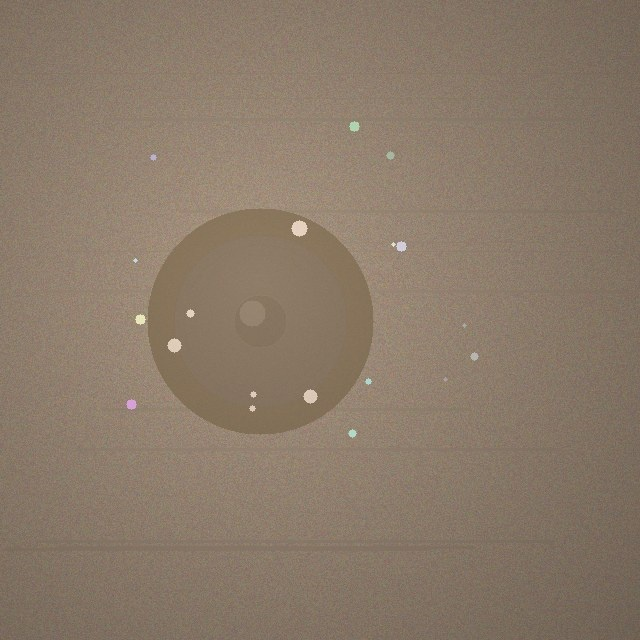overburn: (147, 208, 373, 434)
